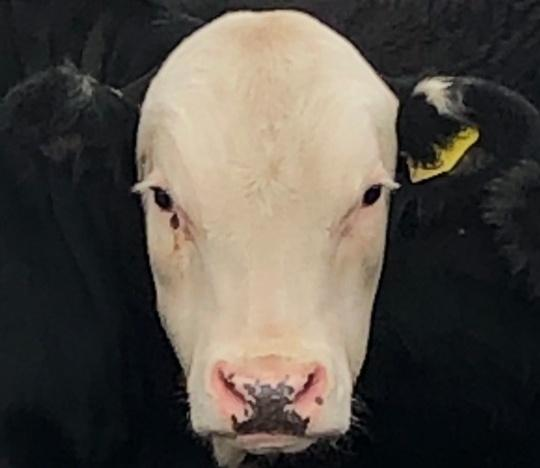muzzles: (185, 349, 360, 459)
